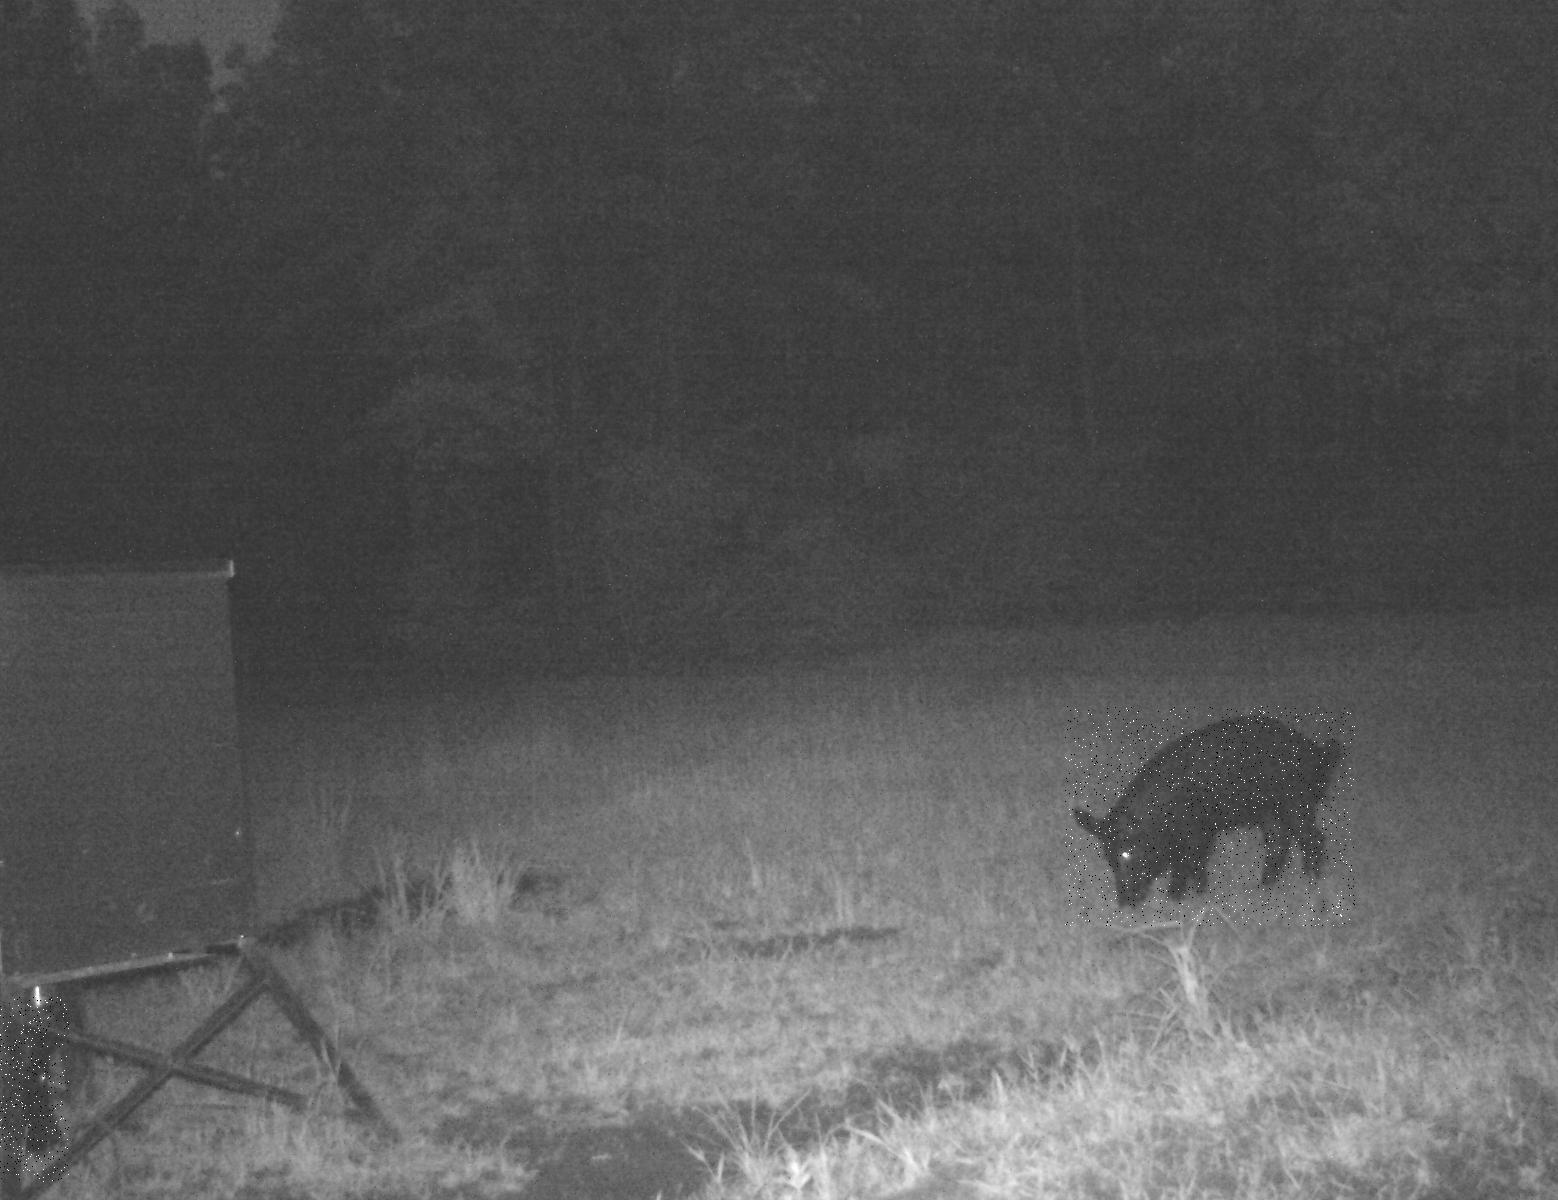Hog: (1065, 706, 1355, 926), (0, 996, 69, 1182)
